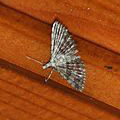Alucitidae: (22, 16, 86, 92)
moth: (24, 18, 88, 94)
